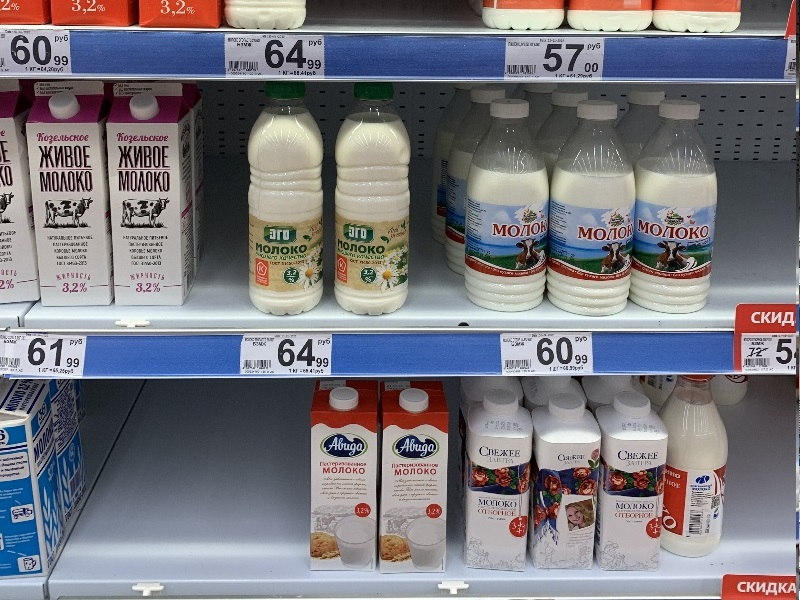milk: (229, 77, 342, 323), (541, 97, 645, 327), (24, 76, 123, 311), (624, 98, 728, 319), (456, 95, 557, 315), (107, 79, 196, 318), (328, 79, 415, 316), (294, 376, 387, 579), (650, 372, 735, 572), (376, 381, 461, 578), (523, 395, 611, 572), (456, 390, 540, 574), (590, 392, 675, 573)
